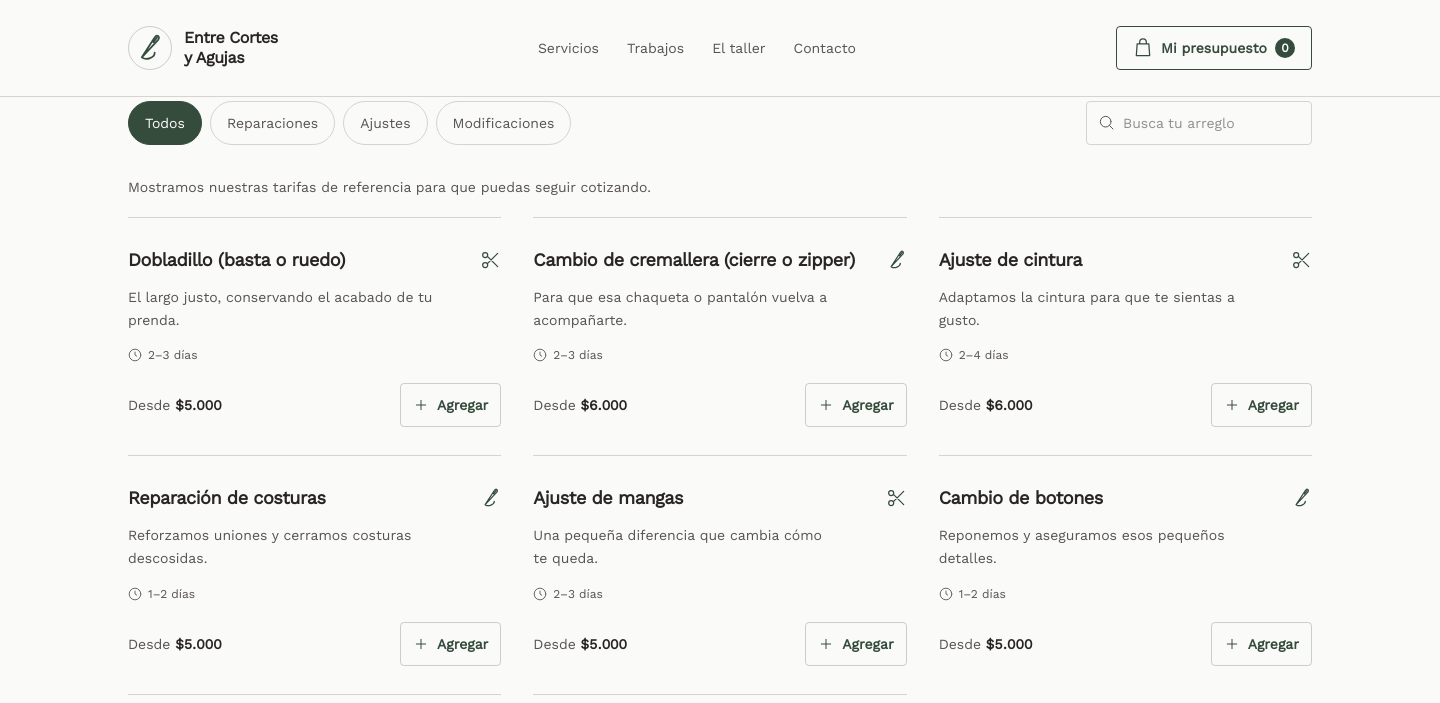
Test: workshop landing › quotes without credentials, updates quantities and applies express
(page scrolled)
What coordinates should you click on to do the following:
click the button with aria-label "Agregar Dobladillo (basta o ruedo)"
I would click on:
 (451, 405)
Its box is [400,383,501,427].
(page scrolled)
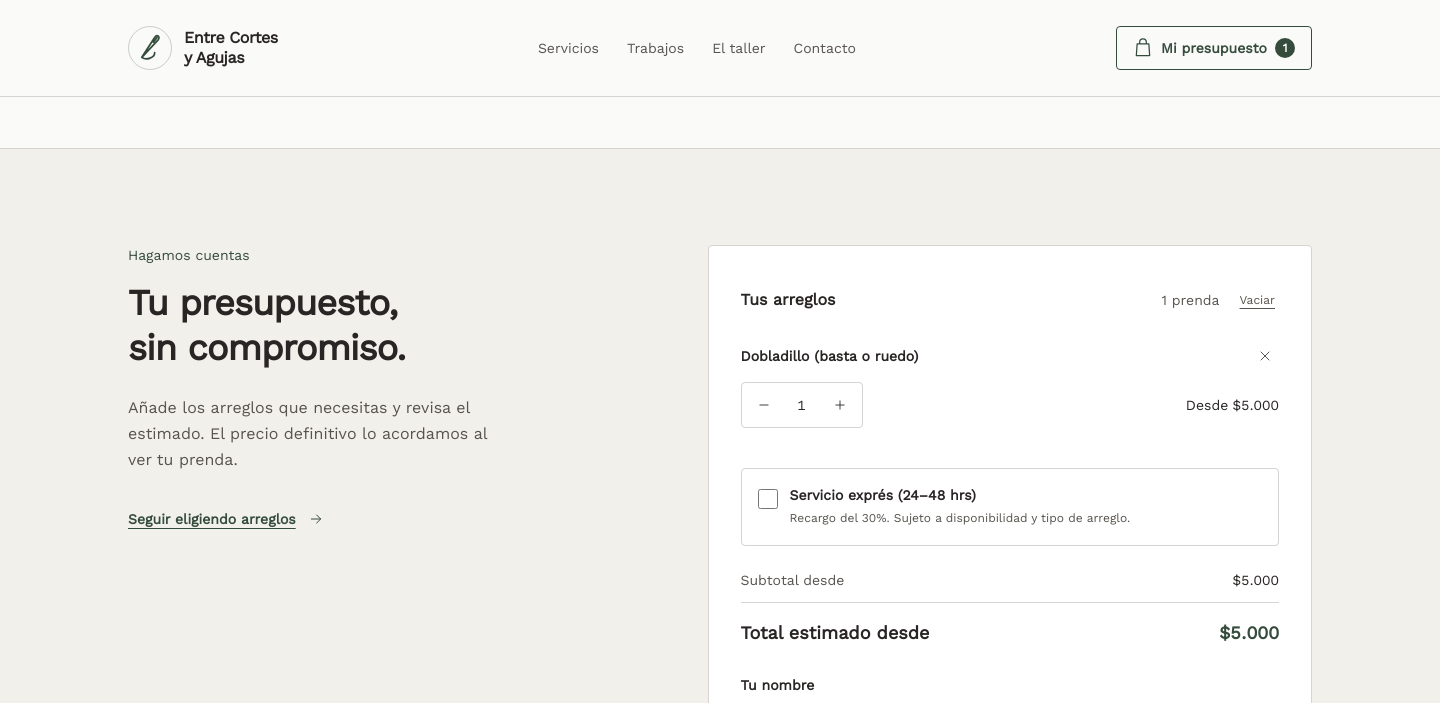
expect the text "Desde $5.000" is shown: met, box [1186,395,1279,415]
What coordinates should you click on to do the following:
click the button named "Aumentar Dobladillo (basta o ruedo)"
I would click on:
 (840, 405)
Its box is [818,383,862,427].
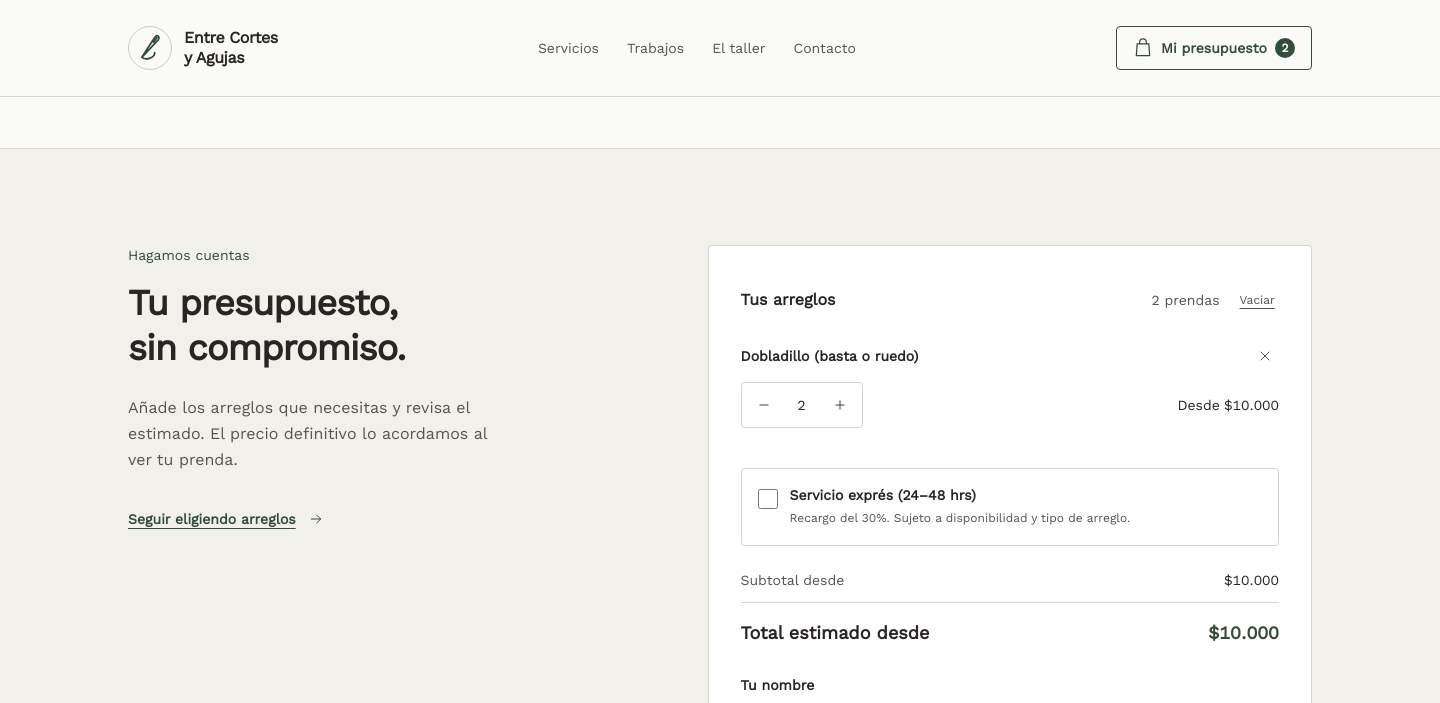
expect the text "Desde $10.000" is shown: met, box [1177,395,1279,415]
What coordinates should you click on to do the following:
click the checkbox labelled "Servicio exprés"
I would click on:
 (768, 499)
Its box is [758,489,778,509].
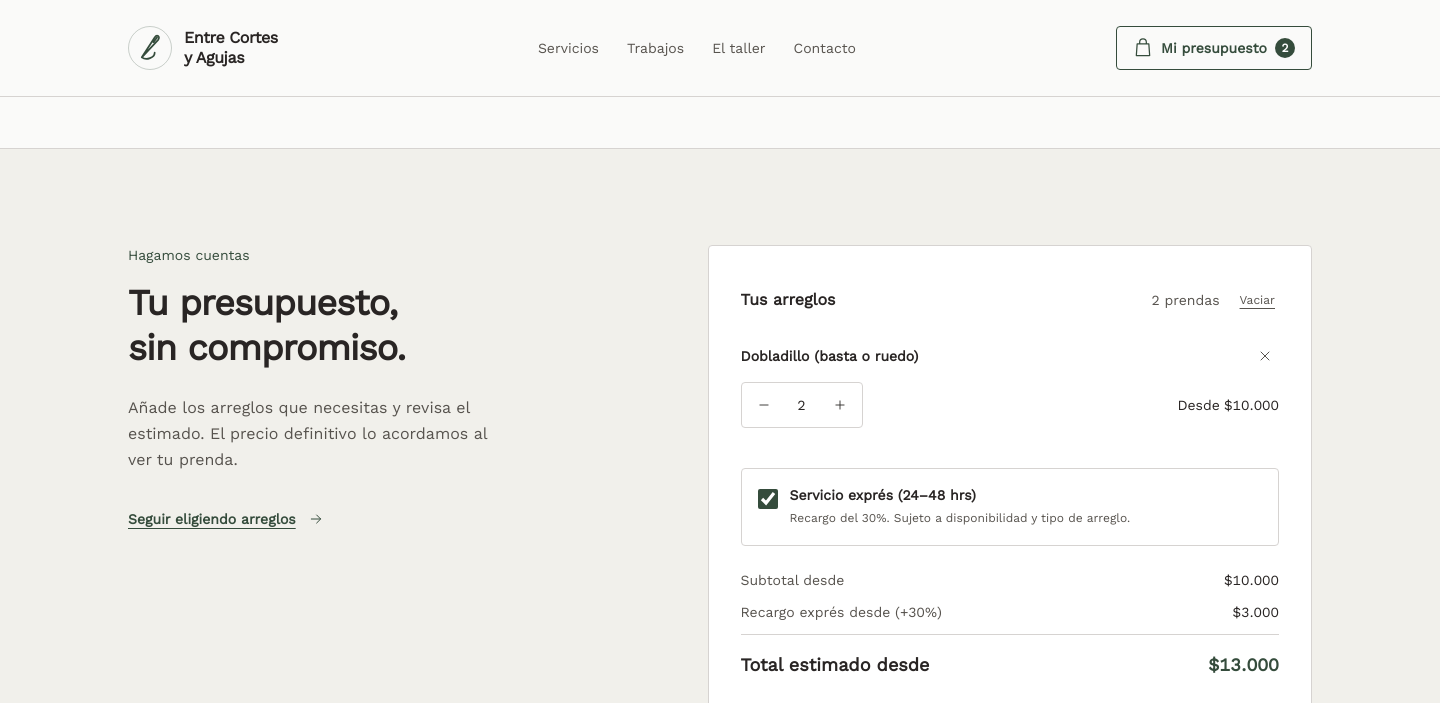
expect the text "$3.000" is shown: met, box [1232,602,1279,622]
expect the text "Recargo exprés desde (+30%)" is shown: met, box [740,602,942,622]
expect the text "$13.000" is shown: met, box [1208,651,1279,679]
What coordinates should you click on to do the following:
click the button named "Quitar Dobladillo (basta o ruedo)"
I would click on:
 (1265, 356)
Its box is [1243,334,1287,378].
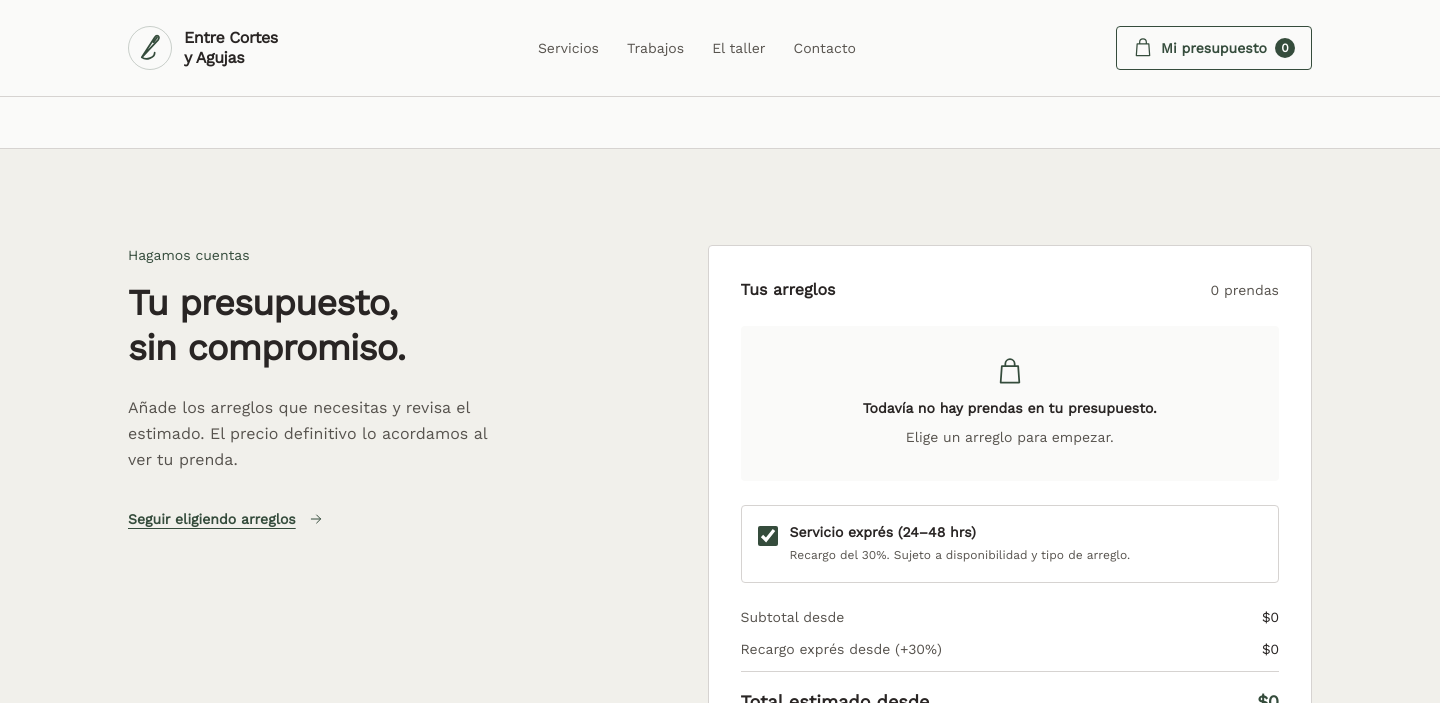
expect the text "Todavía no hay prendas en tu presupuesto." is shown: met, box [863,400,1157,416]
